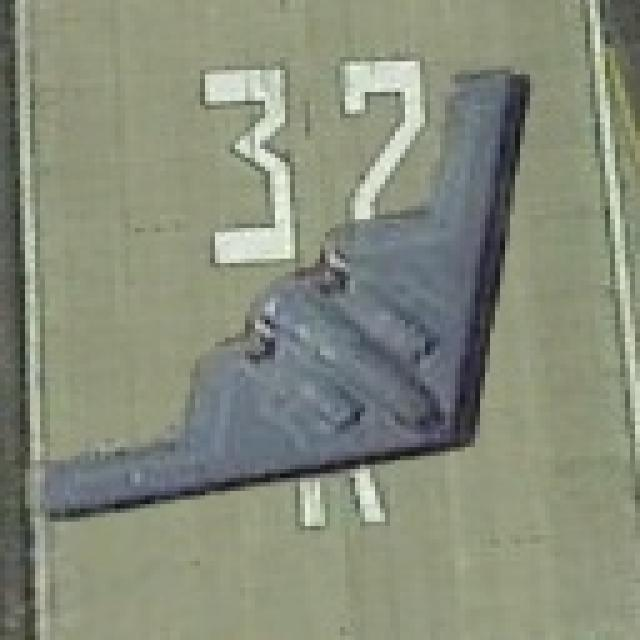B-2_TopDown: (25, 57, 535, 530)
